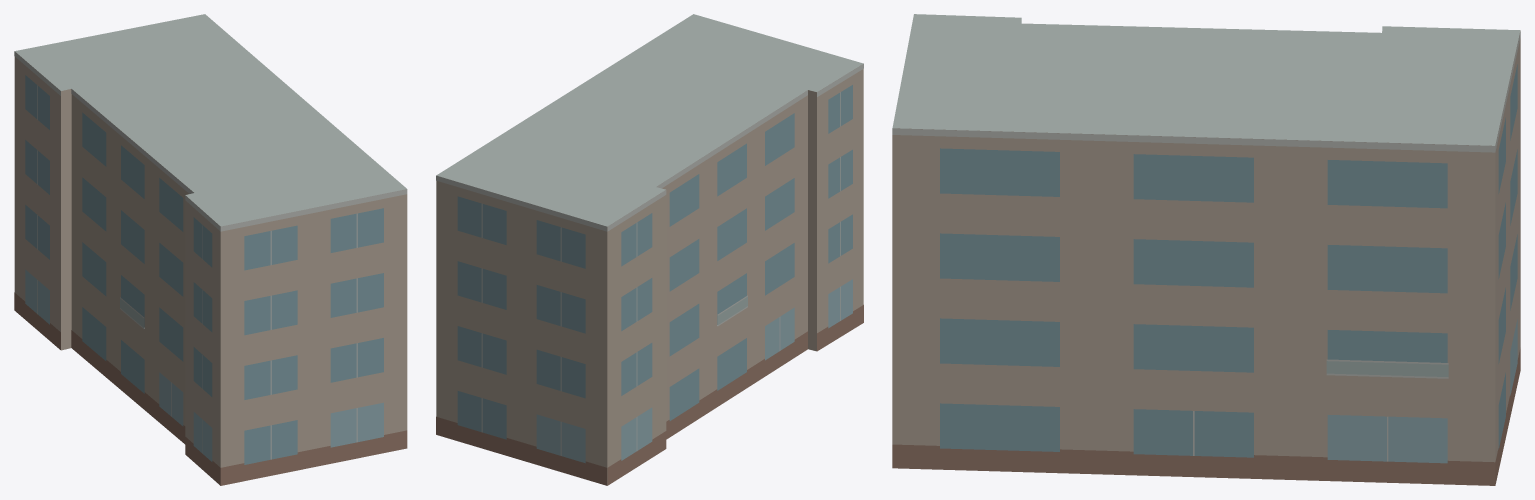
Rendered from survey-upis-32763945.glb.
3 views of the same model, side by side, from view 1: azimuth 30°, elevation 25°; view 2: azimuth 150°, elevation 25°; view 3: azimuth 270°, elevation 25° (orthographic). The views are drawn at different scales.
Parts seen in each view (by area): view 1: survey-upis-32763945.tmp; view 2: survey-upis-32763945.tmp; view 3: survey-upis-32763945.tmp.
Boxes of the visible parts, box(x1,y1,x2,y2) form: survey-upis-32763945.tmp: box(14, 14, 407, 485); survey-upis-32763945.tmp: box(436, 14, 863, 485); survey-upis-32763945.tmp: box(892, 14, 1520, 485).
Bounding box in the file's own units: 10.32 × 12.4 × 20.77.
